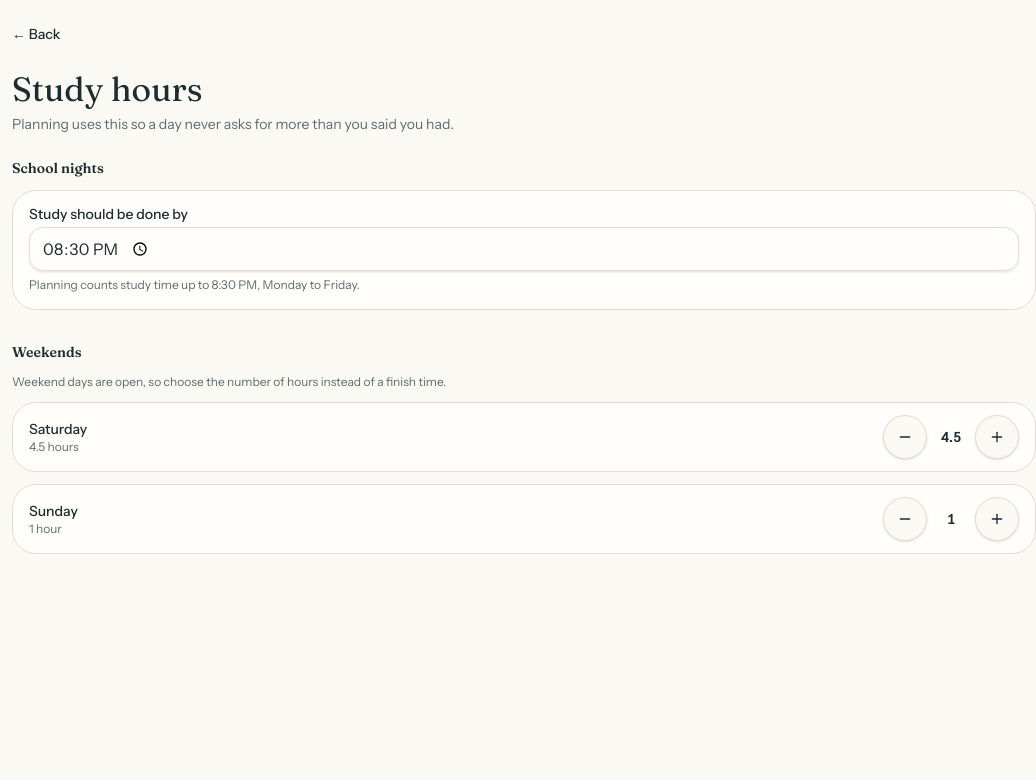
PreferencesPage › changing Saturday saves straight away, leaving Sunday and the weekday alone
expect the time field labelled "Study should be done by" holds "20:30": met, box left=29, top=227, right=1019, bottom=271
Step 1. Click the button named "More time on Saturday" → (997, 437), box left=975, top=415, right=1019, bottom=459
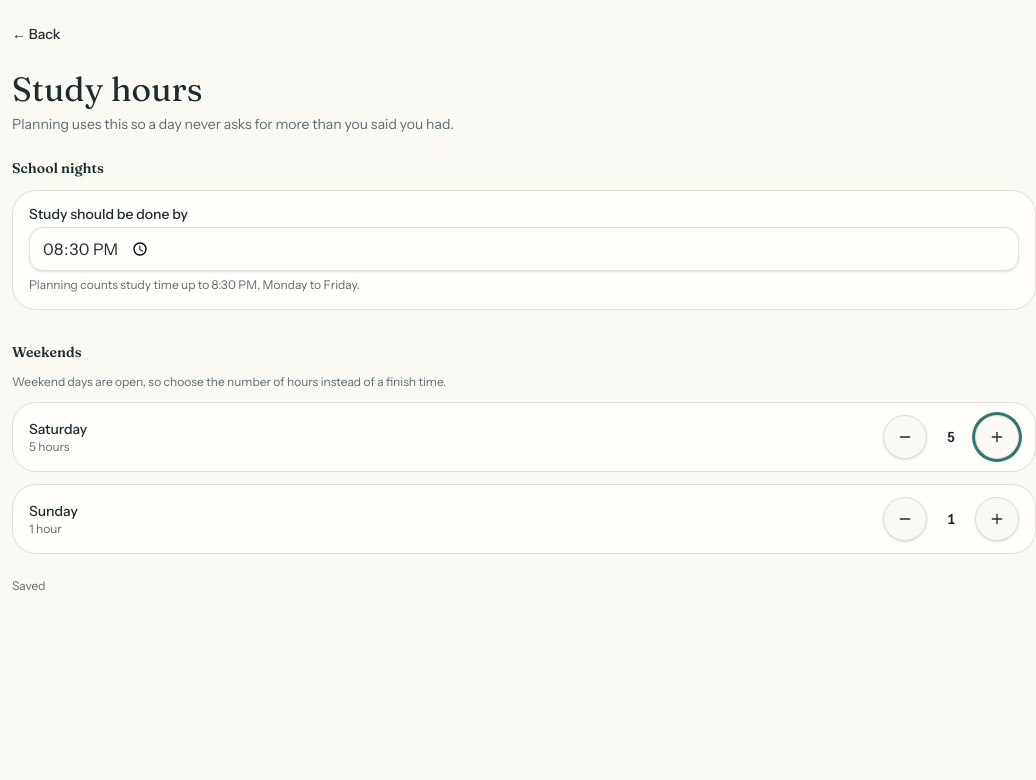
expect the text "5 hours" is shown: met, box left=29, top=439, right=70, bottom=454
expect the text "Saved" is shown: met, box left=12, top=578, right=46, bottom=593
